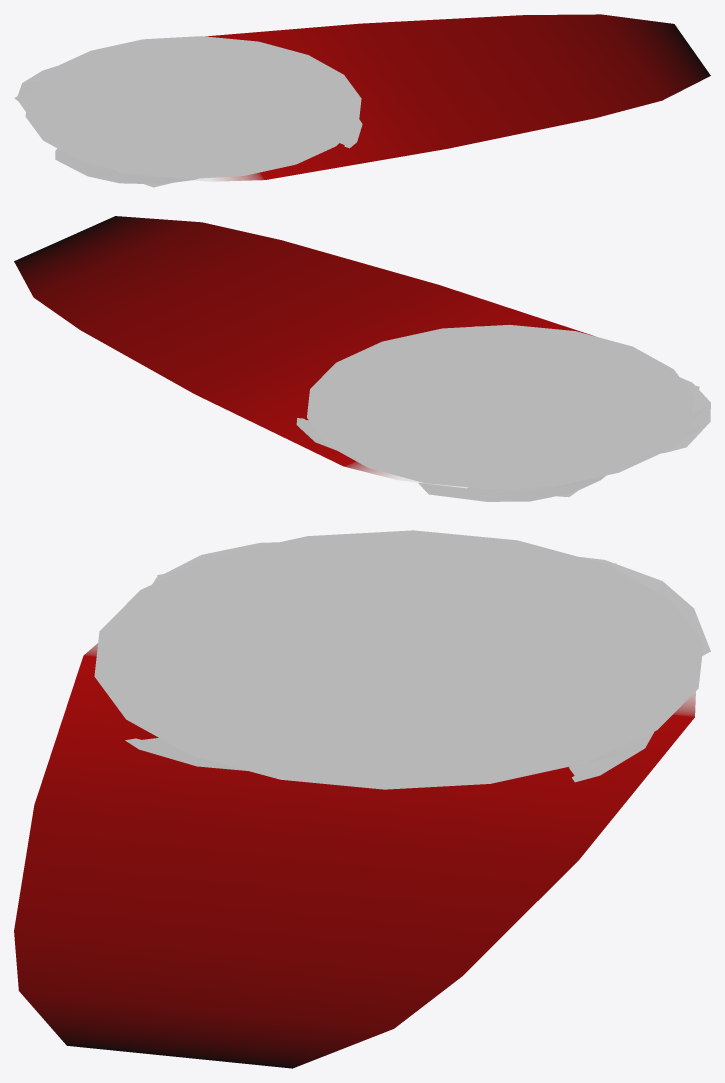
The model's file is pref_fx_froakie_spell01A_bullet_lv3.fbx.
3 views of the same model, one above another, from view 1: azimuth 30°, elevation 25°; view 2: azimuth 150°, elevation 25°; view 3: azimuth 270°, elevation 25° (orthographic). The views are drawn at different scales.
Parts seen in each view (by area): view 1: trail_01, slj_02_bian_01, shoulijian_01; view 2: trail_01, slj_02_bian_01, shoulijian_01; view 3: trail_01, slj_02_bian_01, shoulijian_01.
Part boxes in pixels (<box>): trail_01: <box>193,14,710,181</box>; slj_02_bian_01: <box>25,36,361,178</box>; shoulijian_01: <box>16,66,362,184</box>; trail_01: <box>14,216,594,488</box>; slj_02_bian_01: <box>307,324,693,489</box>; shoulijian_01: <box>296,326,710,501</box>; trail_01: <box>14,643,695,1068</box>; slj_02_bian_01: <box>94,530,703,789</box>; shoulijian_01: <box>125,542,710,782</box>.
Size of the model in its own units: 4.07 by 0.0487 by 2.26.
